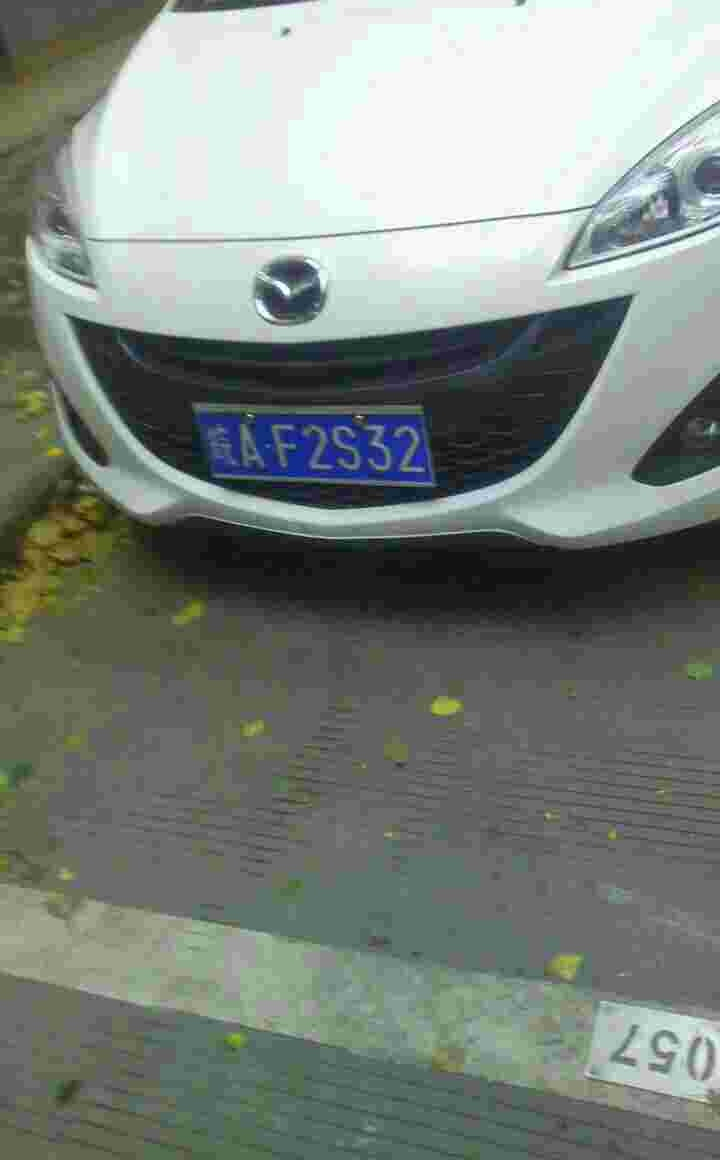license_plate: (203, 410, 450, 494)
